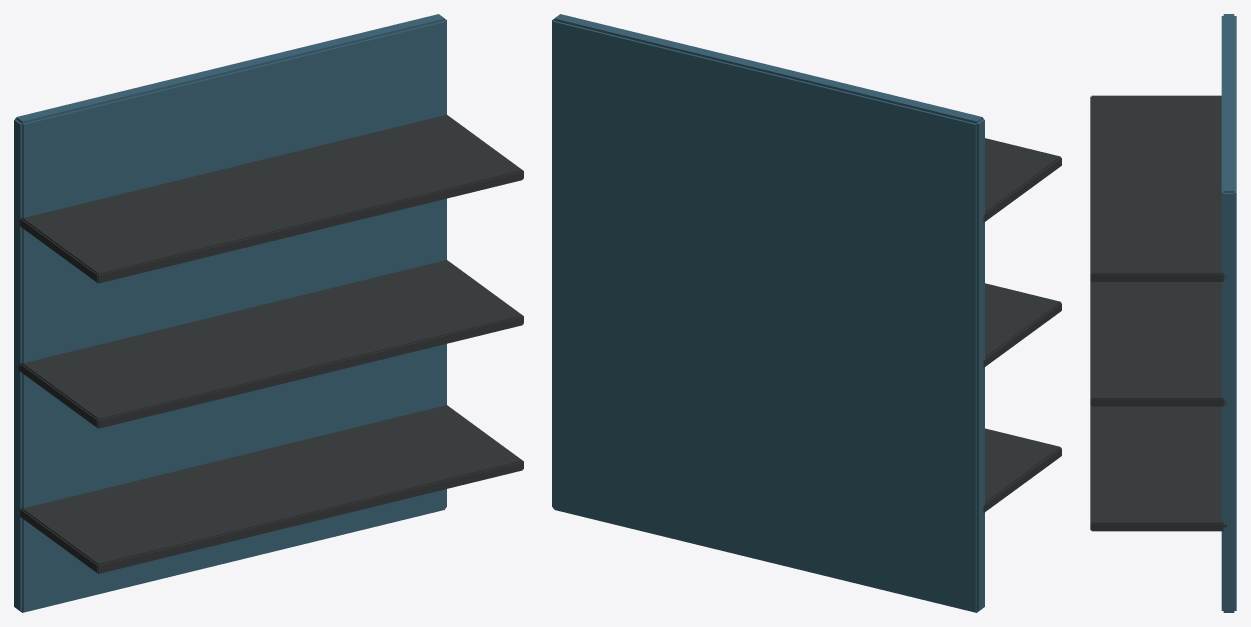
File: fixture_sport_wall.glb
The picture shows the model from 3 angles, left to right: view 1: azimuth 30°, elevation 25°; view 2: azimuth 150°, elevation 25°; view 3: azimuth 270°, elevation 25°; orthographic projection. The views are drawn at different scales.
Parts seen in each view (by area): view 1: fixture_sport_wall_Technical_blue, fixture_sport_wall_Anodised_graphite; view 2: fixture_sport_wall_Technical_blue, fixture_sport_wall_Anodised_graphite; view 3: fixture_sport_wall_Anodised_graphite, fixture_sport_wall_Technical_blue.
Boxes of the visible parts, <box> form: fixture_sport_wall_Technical_blue: <box>14,14,446,612</box>; fixture_sport_wall_Anodised_graphite: <box>18,114,523,573</box>; fixture_sport_wall_Technical_blue: <box>552,14,984,612</box>; fixture_sport_wall_Anodised_graphite: <box>983,138,1061,512</box>; fixture_sport_wall_Anodised_graphite: <box>1090,95,1226,531</box>; fixture_sport_wall_Technical_blue: <box>1221,14,1236,612</box>.
Bounding box in the file's own units: 2 × 2.2 × 0.69.
